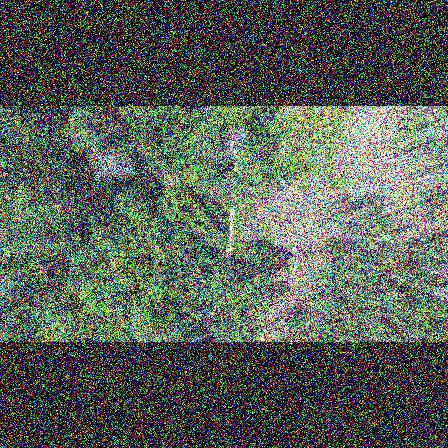Dead: (87, 146, 139, 182), (225, 124, 246, 161)
